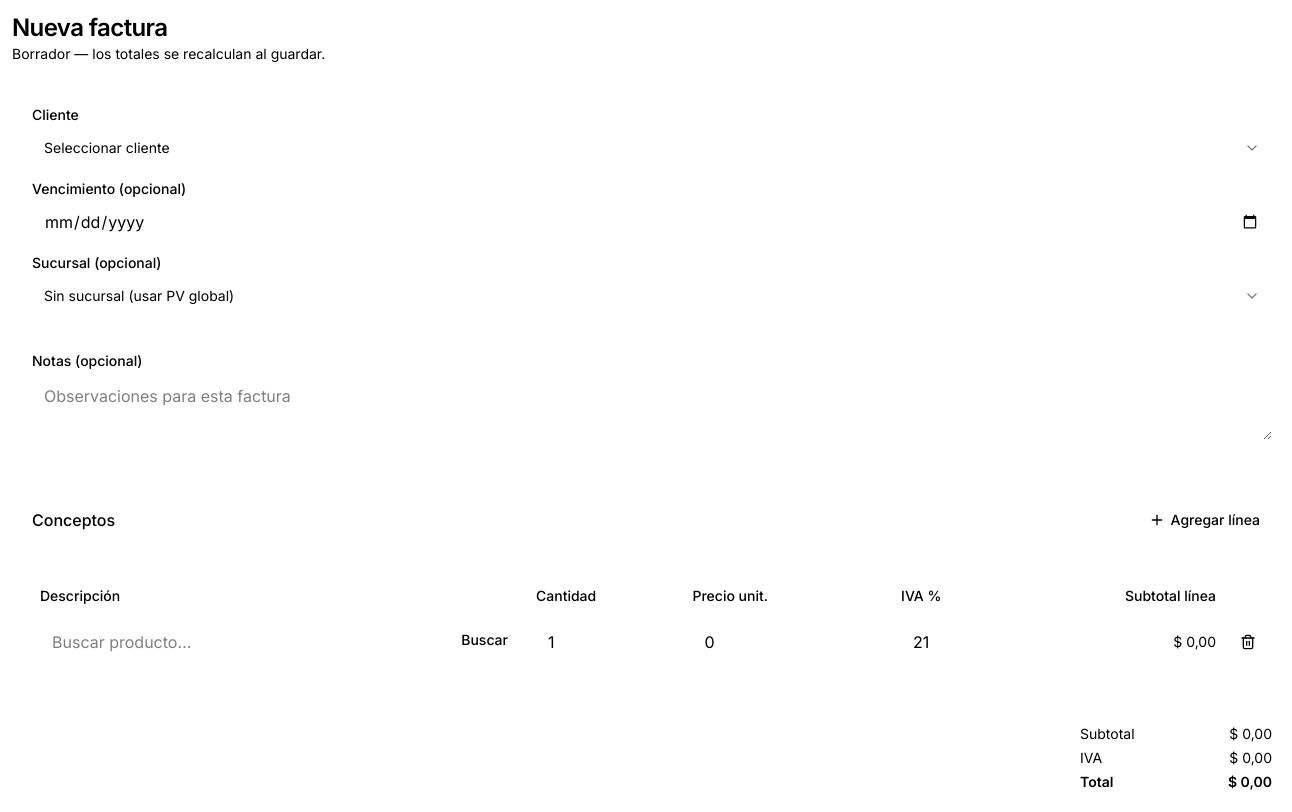
InvoiceForm — buscador de productos con autocompletado de precio › listar sucursales activas como opciones del selector (R3)
The image size is (1292, 812).
Click the dropdown labelled "Sin sucursal (usar PV global)": (139, 296) [32,278,1272,314]
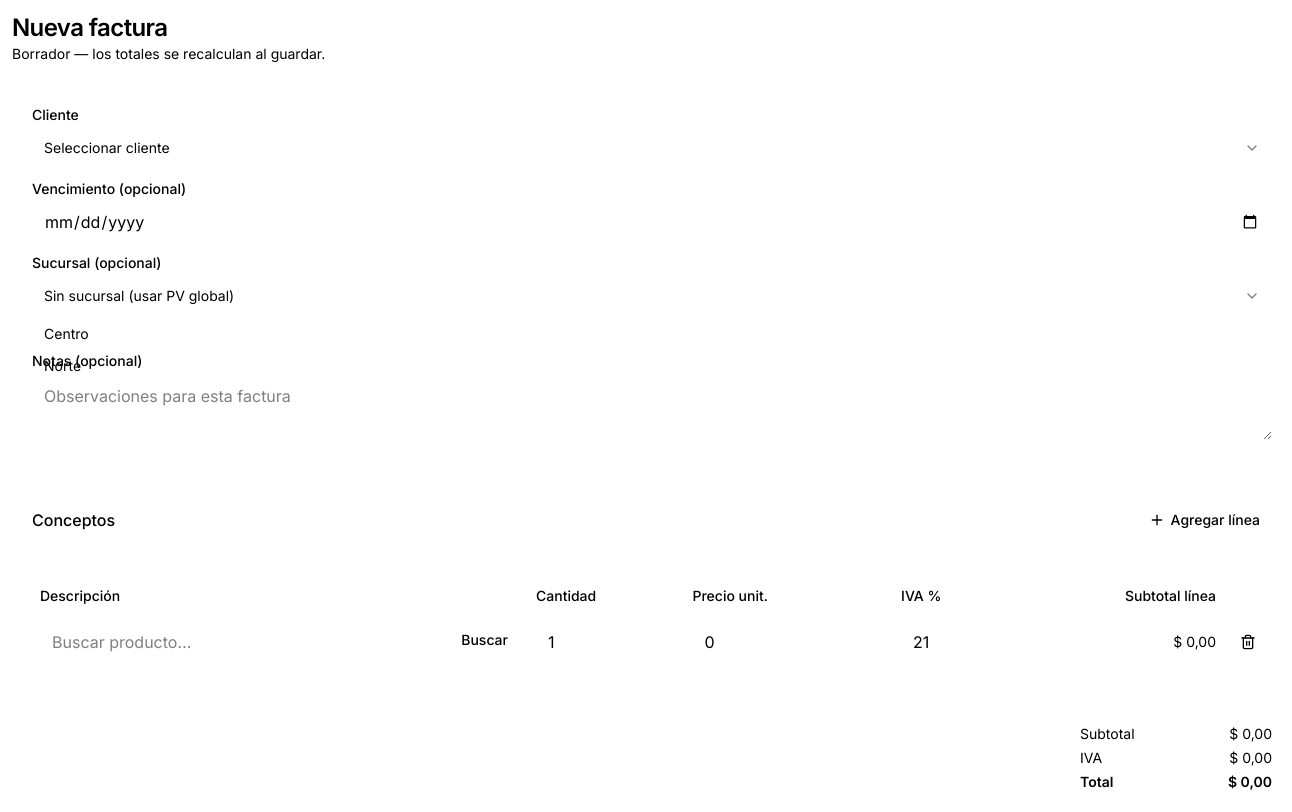
Check: the option "Centro" is shown, box [44,325,89,342]
Check: the option "Norte" is shown, box [44,357,81,374]
